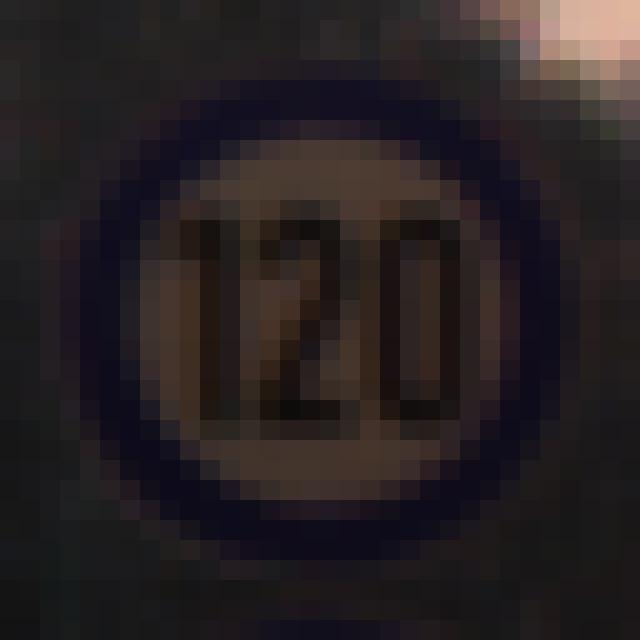SPEED LIMIT 120: (99, 103, 546, 540)
